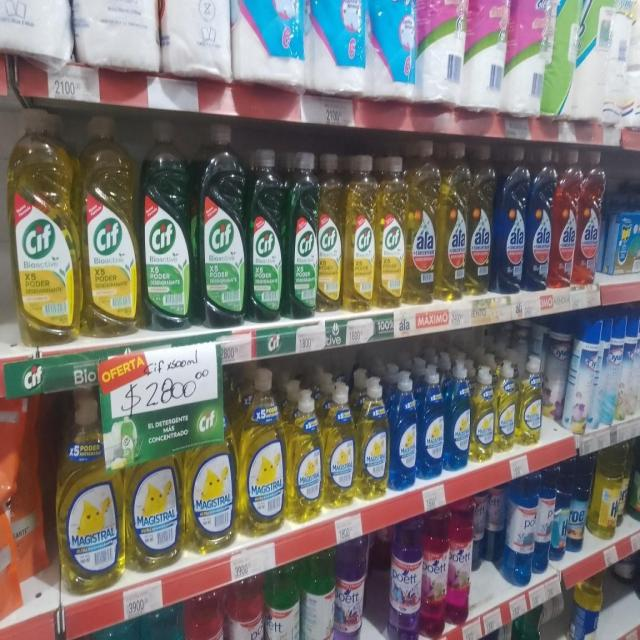ala_conc_amarillo: (407, 140, 437, 304), (439, 141, 467, 301), (468, 144, 493, 296)
ala_conc_azul: (495, 145, 526, 294), (526, 147, 552, 292)
ala_conc_rojo: (552, 148, 577, 290), (577, 150, 602, 284)
cif_conc_bot_amarilla: (9, 110, 78, 344), (82, 112, 138, 338), (345, 153, 376, 312), (377, 154, 405, 308), (318, 152, 344, 314)
cif_conc_botella_verde: (142, 118, 192, 332), (197, 122, 245, 328), (248, 148, 284, 322), (287, 150, 317, 320)
magistral_con_amarillo: (56, 392, 123, 594), (239, 367, 285, 537), (126, 446, 182, 572), (185, 416, 236, 554), (288, 387, 322, 523), (324, 380, 355, 509), (358, 376, 388, 500), (518, 355, 542, 447), (472, 364, 494, 463), (496, 359, 516, 454)
magistral_con_azul: (390, 370, 418, 491), (419, 365, 444, 481), (446, 358, 470, 472)
